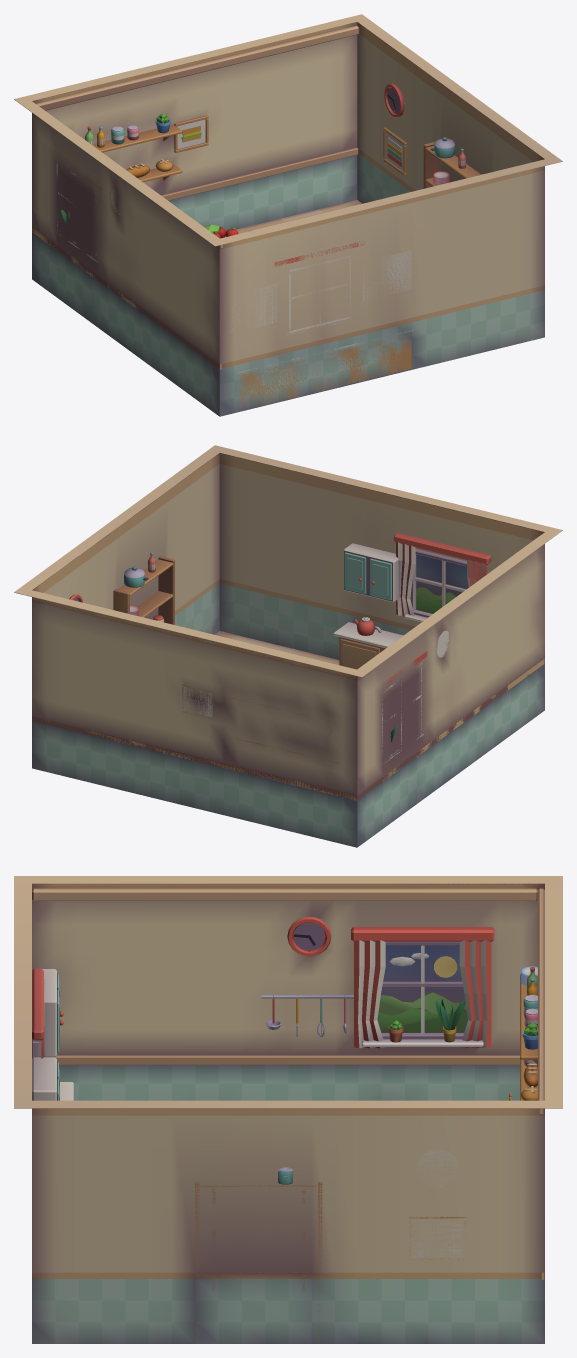
The picture shows the model from 3 angles, top to bottom: view 1: azimuth 30°, elevation 25°; view 2: azimuth 150°, elevation 25°; view 3: azimuth 270°, elevation 25°; orthographic projection. The views are drawn at different scales.
Parts seen in each view (by area): view 1: back, room, props, table; view 2: room, back, table; view 3: back, room, props.
Part boxes in pixels (x1,y1,x2,y2): back: (208, 14, 562, 416); room: (14, 17, 359, 416); props: (61, 113, 252, 238); table: (225, 200, 361, 236); room: (25, 532, 556, 847); back: (14, 445, 562, 669); table: (215, 631, 339, 664); back: (14, 876, 562, 1343); room: (32, 876, 562, 1279); props: (266, 966, 537, 1100).
Bounding box in the file's own units: 9.2 × 4.57 × 9.2.
